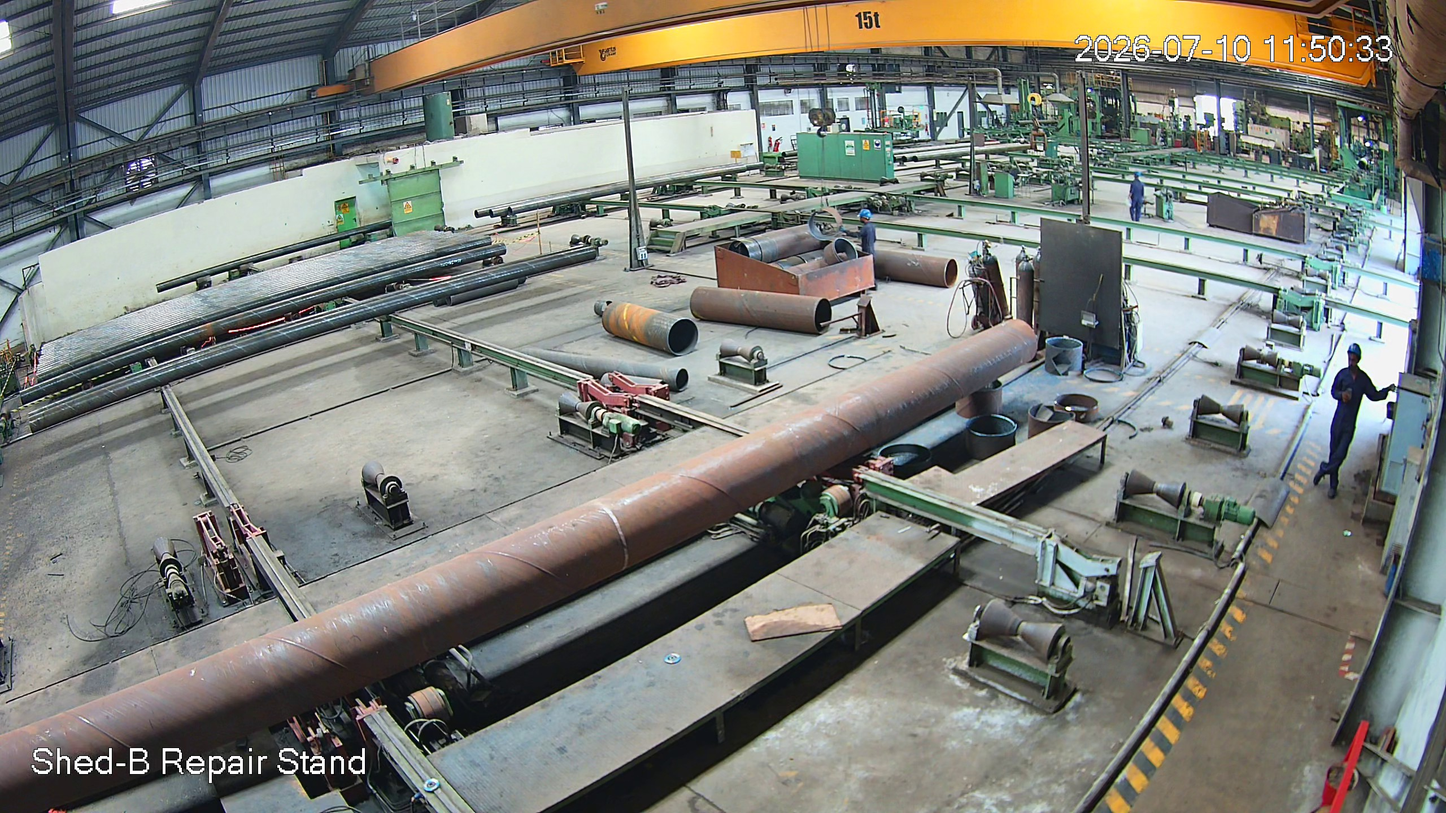Helmet: (1341, 337, 1372, 387), (853, 203, 874, 230), (1130, 166, 1146, 189)
Person: (1312, 343, 1386, 502), (851, 207, 881, 268), (1126, 168, 1149, 227)
